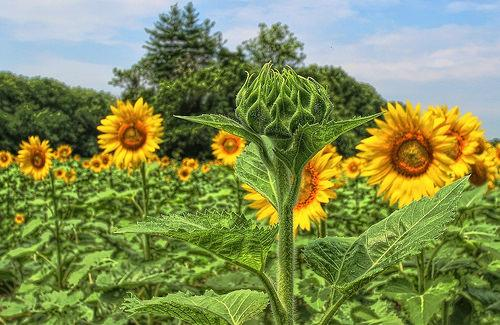sunflower: (357, 101, 460, 210), (96, 96, 162, 169), (15, 135, 54, 180), (211, 129, 246, 162)
